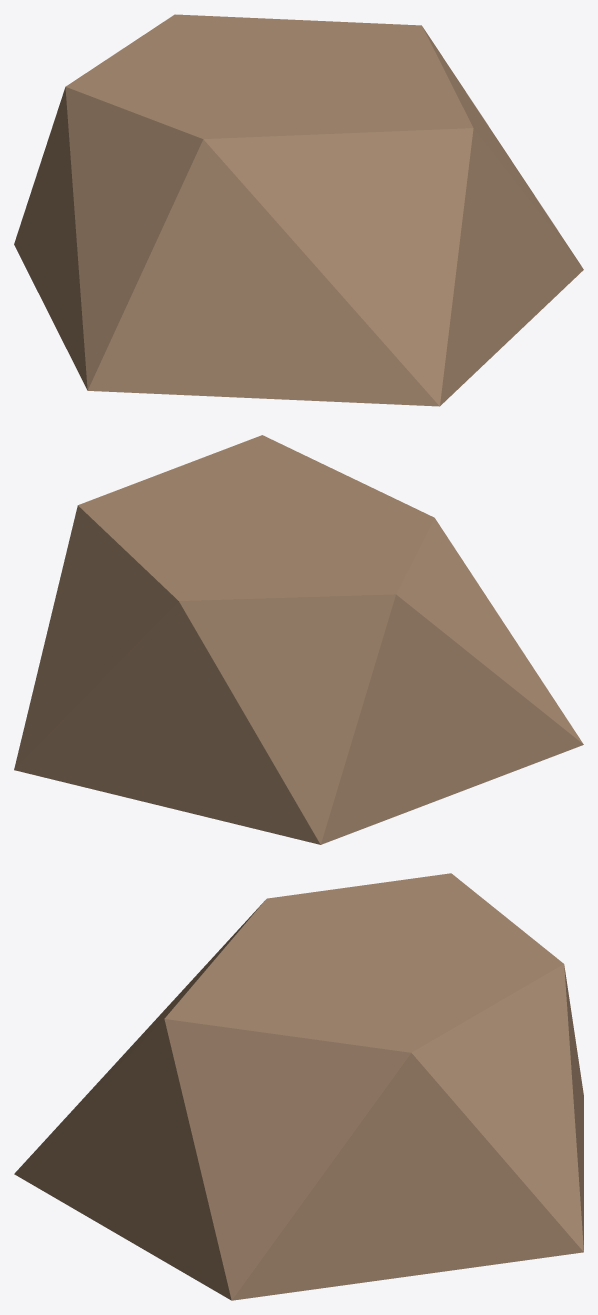
File: TB_Env_Stone4_E.FBX
3 views of the same model, one above another, from view 1: azimuth 30°, elevation 25°; view 2: azimuth 150°, elevation 25°; view 3: azimuth 270°, elevation 25° (orthographic). The views are drawn at different scales.
Parts seen in each view (by area): view 1: TB_Env_Stone4_E; view 2: TB_Env_Stone4_E; view 3: TB_Env_Stone4_E.
Part boxes in pixels (box(x1,y1,x2,y2)): TB_Env_Stone4_E: box(14, 14, 583, 406); TB_Env_Stone4_E: box(14, 435, 583, 844); TB_Env_Stone4_E: box(14, 873, 583, 1300).
Size of the model in its own units: 0.5049 by 0.2013 by 0.4802.
